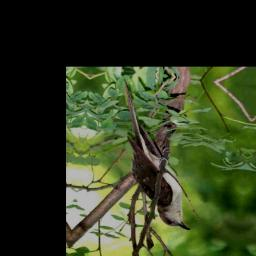Cuckoo: (106, 79, 207, 231)
